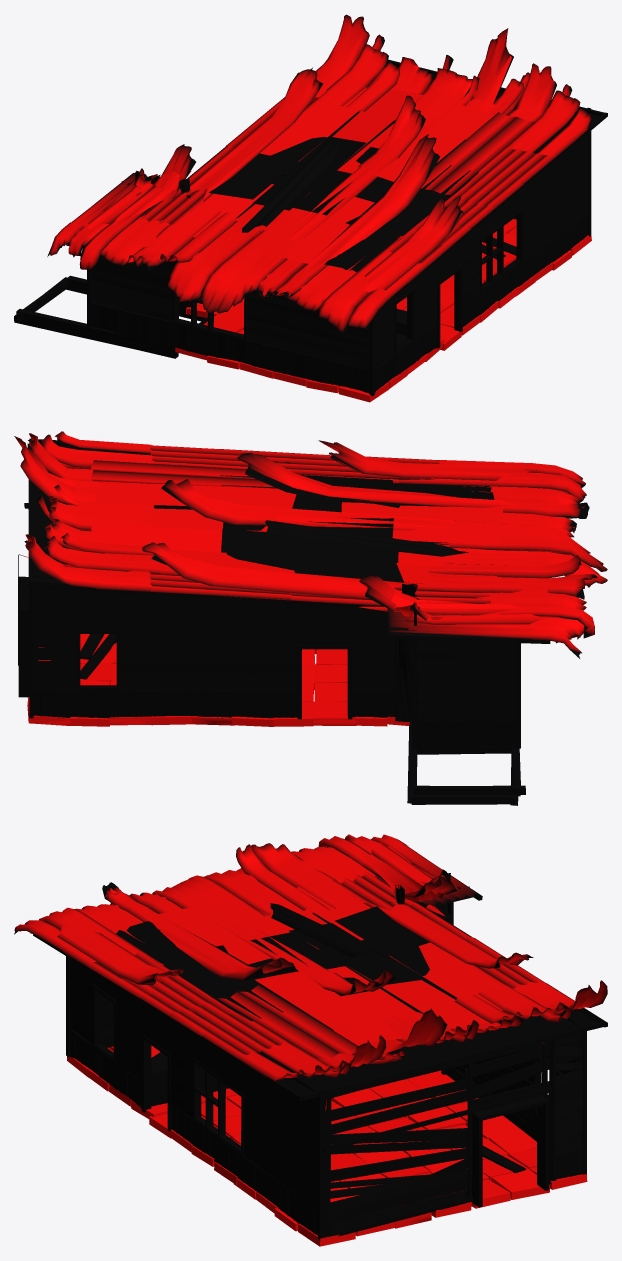
The model's file is SM_GasStation2.fbx.
3 renders of one model, top to bottom at view 1: azimuth 30°, elevation 25°; view 2: azimuth 150°, elevation 25°; view 3: azimuth 270°, elevation 25°, orthographic. The views are drawn at different scales.
Visible parts, largest first — view 1: SM_GasStation.mo; view 2: SM_GasStation.mo; view 3: SM_GasStation.mo.
Boxes of the visible parts, x1,y1,x2,y2 form: SM_GasStation.mo: [14, 14, 607, 402]; SM_GasStation.mo: [14, 431, 607, 805]; SM_GasStation.mo: [14, 834, 607, 1246].
Bounding box in the file's own units: 2246 × 1891 × 805.
